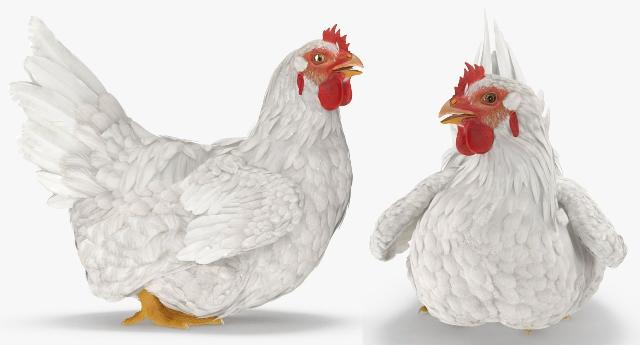Chicken: (9, 13, 365, 330), (369, 8, 628, 335)
